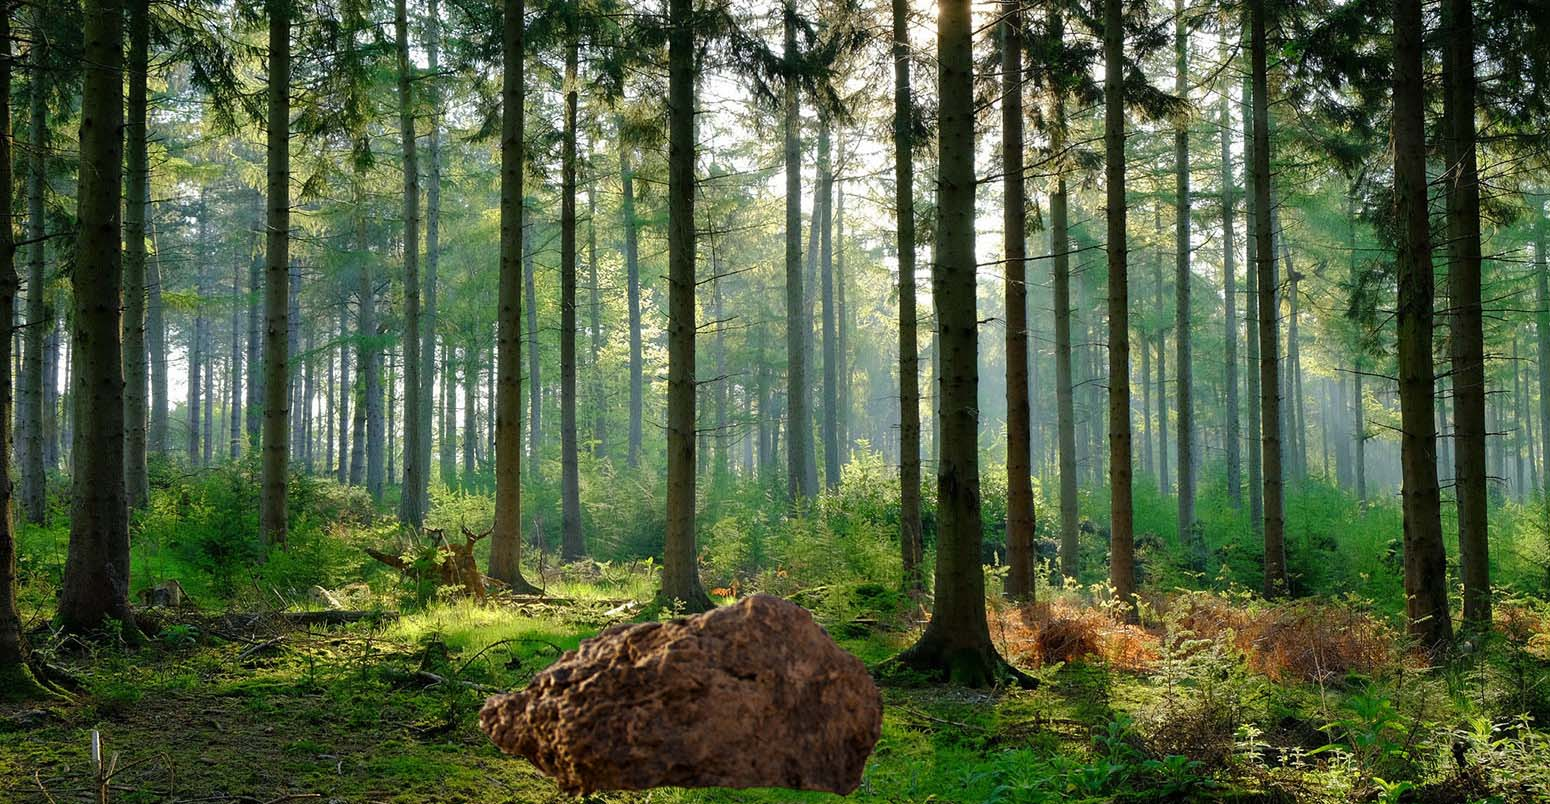Rocks: (475, 581, 888, 792)
